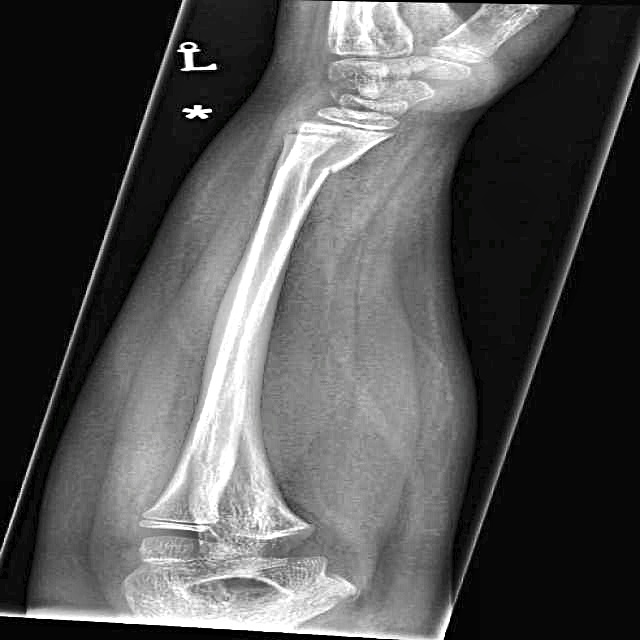Greenstick: (249, 144, 394, 188)
